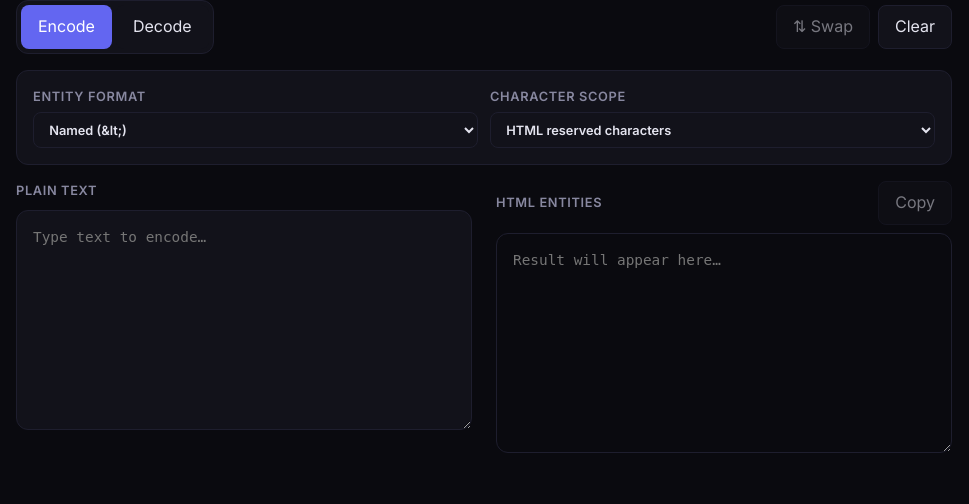
HtmlEntityTool actions › clears both panels and reports feedback
Type "<" into the text box labelled "Plain text" at (244,320), box x1=16 y1=210 x2=472 y2=430
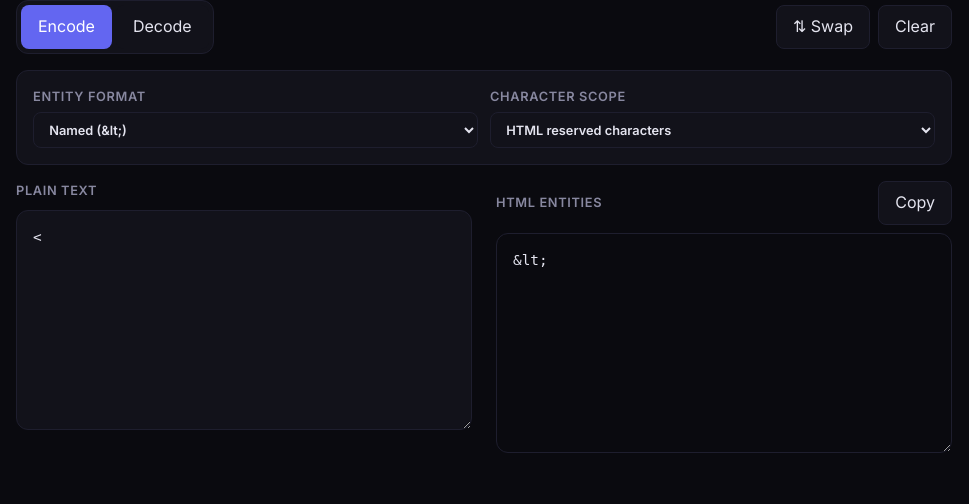
Click the button "Clear" at (915,27), box x1=878 y1=5 x2=952 y2=49
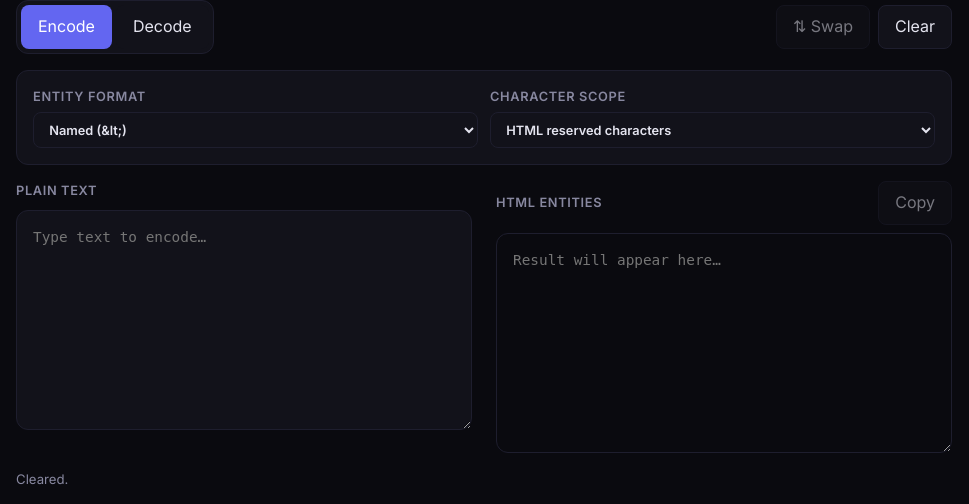
expect the text box labelled "Plain text" is empty: met, box x1=16 y1=210 x2=472 y2=430
expect the text box labelled "HTML entities" is empty: met, box x1=496 y1=233 x2=952 y2=453
expect the message reads "Cleared.": met, box x1=16 y1=471 x2=68 y2=487
